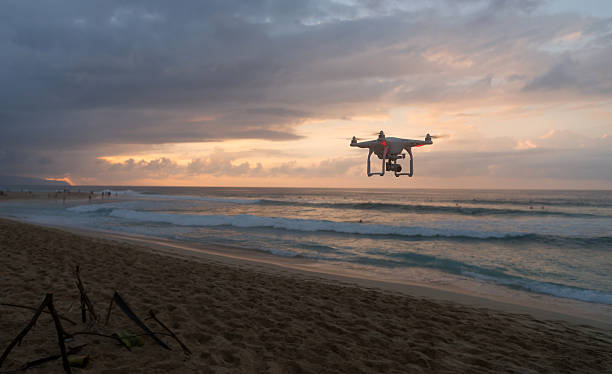Drone: (334, 130, 452, 182)
